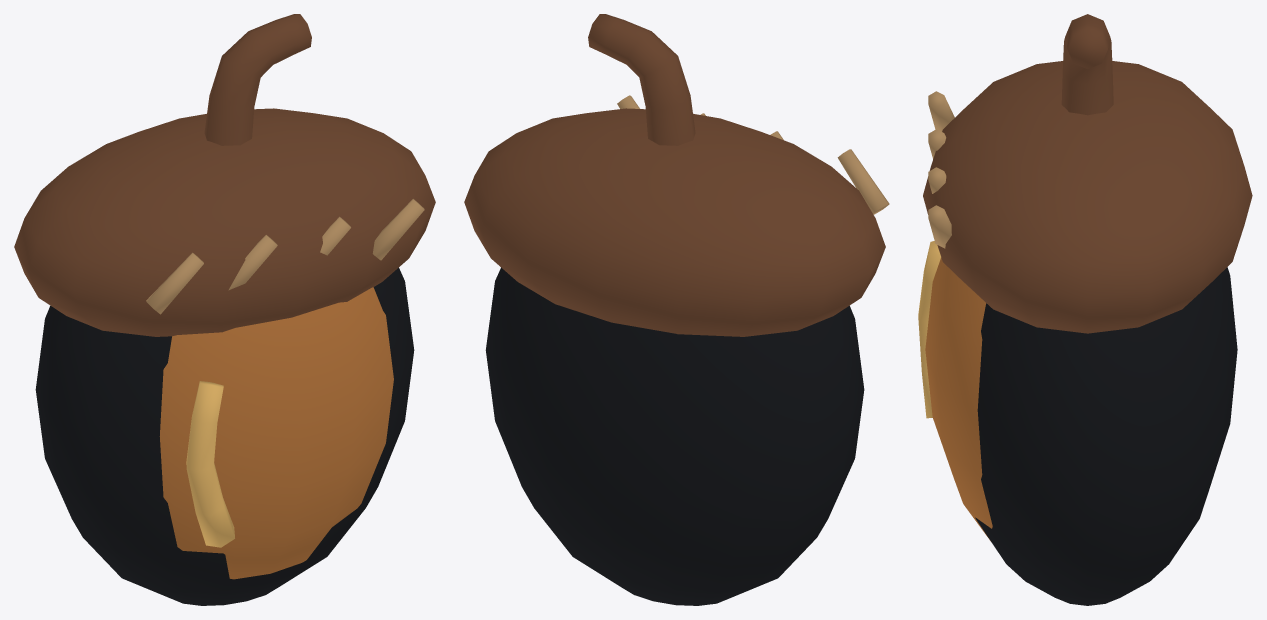
The model's file is power.glb.
3 views of the same model, side by side, from view 1: azimuth 30°, elevation 25°; view 2: azimuth 150°, elevation 25°; view 3: azimuth 270°, elevation 25° (orthographic). The views are drawn at different scales.
Parts seen in each view (by area): view 1: power_Game; view 2: power_Game; view 3: power_Game.
Part boxes in pixels (x1=…): power_Game: x1=14, y1=14, x2=435, y2=605; power_Game: x1=464, y1=14, x2=889, y2=605; power_Game: x1=918, y1=14, x2=1252, y2=605.
Size of the model in its own units: 0.96 by 1.32 by 0.6689.
